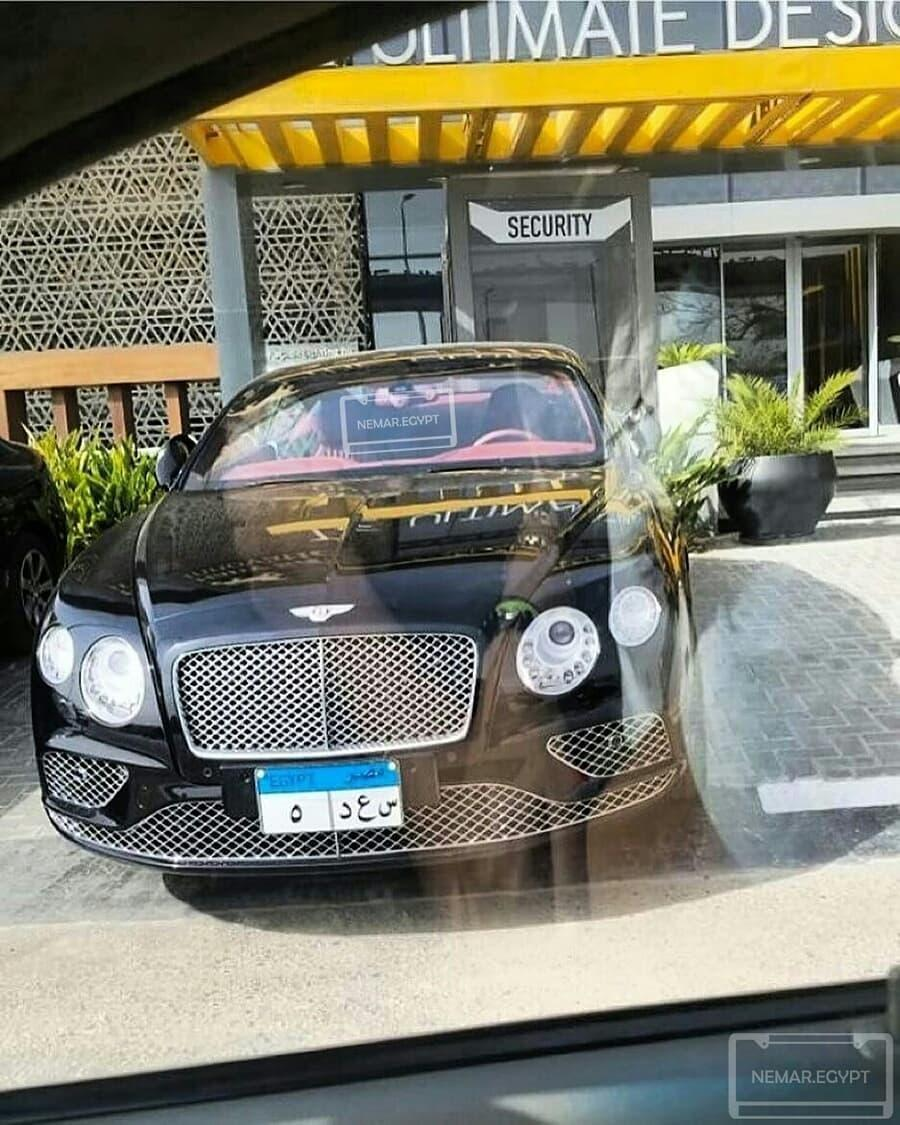5: (287, 800, 306, 825)
Een: (357, 792, 379, 822)
License Plate: (252, 754, 406, 837)
Seen: (378, 794, 398, 822)
car: (24, 328, 680, 866), (0, 450, 56, 690)
daal: (336, 797, 353, 823)
